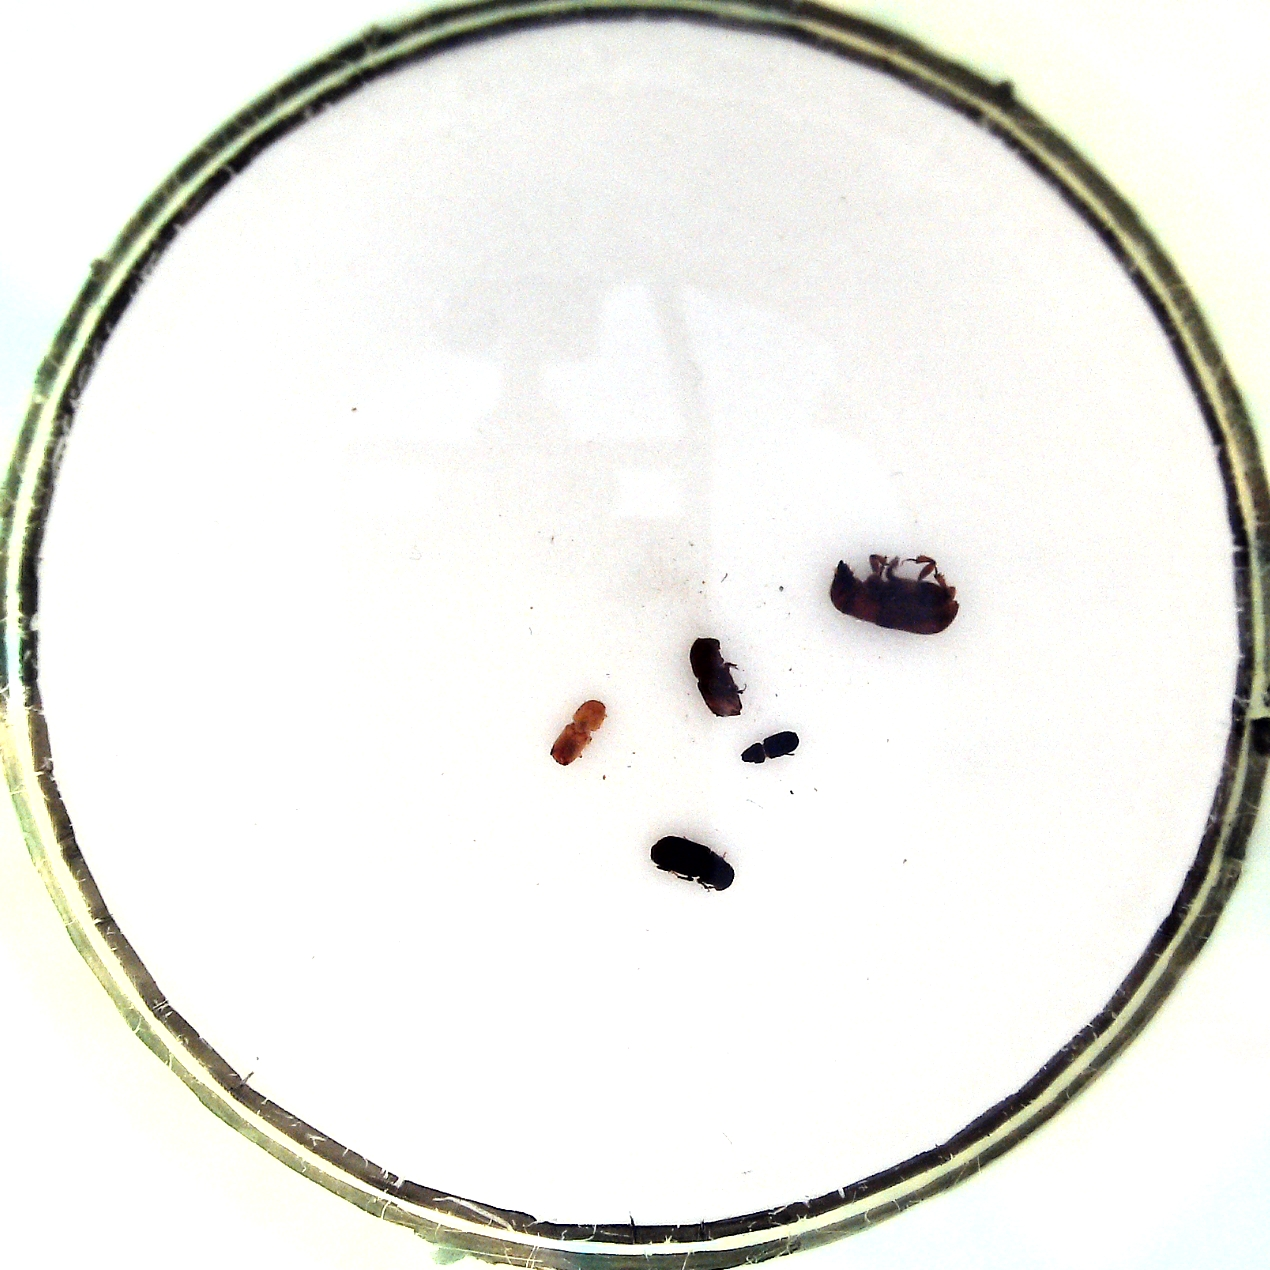Leconte: (829, 547, 962, 636)
Linnaeus: (688, 632, 750, 720)
acuminatus: (549, 697, 609, 766)
armandi: (647, 832, 737, 892)
coleoptera: (735, 726, 802, 770)
